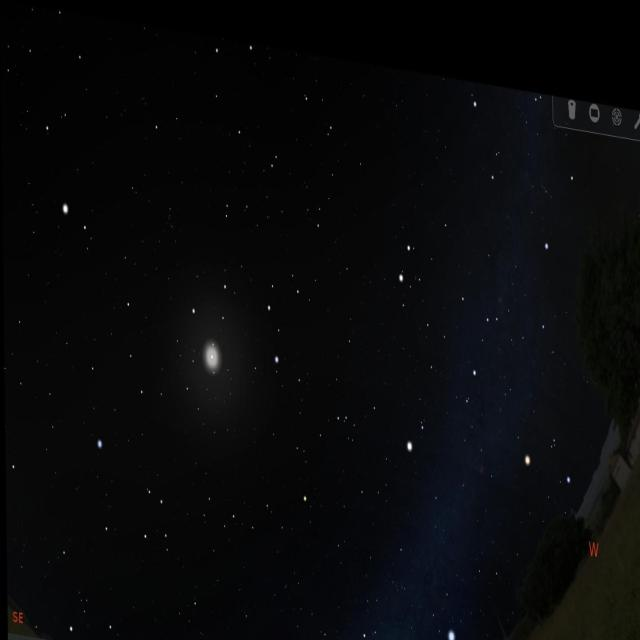bootes: (18, 2, 89, 226)
canis_minor: (402, 396, 429, 455)
gemini: (389, 210, 490, 370)
leo: (183, 235, 300, 368)
moon: (193, 311, 227, 386)
